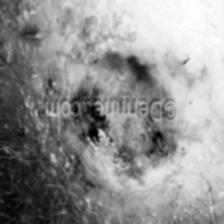Potentially Malignant Skin Tumors: (52, 3, 220, 99), (60, 120, 209, 176)
